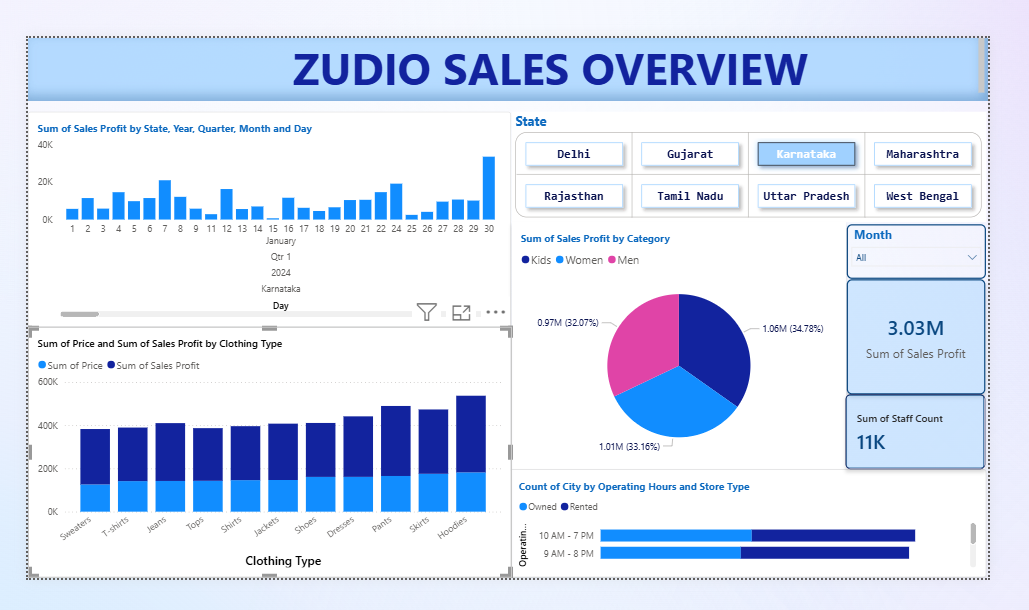

What the dashboard file says about the page in this screenshot:
{"tool":"powerbi","page":{"name":"Page 1","canvas":[1280,720],"ordinal":0},"visuals":[{"type":"textbox","box":[0,0,1280,84.3],"z":0},{"type":"card","fields":{"Values":["Sum(Zudio_sales_data.Sales Profit)"]},"box":[1091.7,321.7,185,153.3],"z":1000},{"type":"lineStackedColumnComboChart","fields":{"Y":["Sum(Zudio_sales_data.Sales Profit)"],"Category":["Zudio_sales_data.State","Zudio_sales_data.Order Date.Variation.Date Hierarchy.Year","Zudio_sales_data.Order Date.Variation.Date Hierarchy.Quarter","Zudio_sales_data.Order Date.Variation.Date Hierarchy.Month","Zudio_sales_data.Order Date.Variation.Date Hierarchy.Day"]},"box":[0,98.6,644.3,287.1],"z":2000},{"type":"slicer","fields":{"Values":["Zudio_sales_data.Month"]},"box":[1091.4,248.6,185.7,72.9],"z":3000},{"type":"advancedSlicerVisual","fields":{"Values":["Zudio_sales_data.State"]},"box":[644.3,98.6,632.9,147.1],"z":4000},{"type":"pieChart","fields":{"Category":["Zudio_sales_data.Category"],"Y":["Sum(Zudio_sales_data.Sales Profit)"]},"box":[644.3,245.7,445.7,330],"z":5000},{"type":"barChart","fields":{"Category":["Zudio_sales_data.Operating Hours","Zudio_sales_data.State"],"Y":["CountNonNull(Zudio_sales_data.City)"],"Series":["Zudio_sales_data.Store Type"]},"box":[641.4,575.7,635.7,144.3],"z":6000},{"type":"cardVisual","fields":{"Data":["Sum(Zudio_sales_data.Staff Count)"]},"box":[1090,475,186.7,100],"z":7000},{"type":"lineStackedColumnComboChart","fields":{"Category":["Zudio_sales_data.Clothing Type"],"Y":["Sum(Zudio_sales_data.Price)","Sum(Zudio_sales_data.Sales Profit)"]},"box":[0,385.7,644.3,334.3],"z":7001}]}

Visuals, with their boxes on the page's 1280x720 design canvas (x1, y1, x2, y2). These are canvas units, not pixel positions in the 1029x610 screenshot, which may show the page scaled, cropped or inside an application window:
textbox: box=[0, 0, 1280, 84]
card - Sum(Zudio_sales_data.Sales Profit): box=[1092, 322, 1277, 475]
lineStackedColumnComboChart - Sum(Zudio_sales_data.Sales Profit) x Zudio_sales_data.State: box=[0, 99, 644, 386]
slicer - Zudio_sales_data.Month: box=[1091, 249, 1277, 322]
advancedSlicerVisual - Zudio_sales_data.State: box=[644, 99, 1277, 246]
pieChart - Zudio_sales_data.Category x Sum(Zudio_sales_data.Sales Profit): box=[644, 246, 1090, 576]
barChart - Zudio_sales_data.Operating Hours x Zudio_sales_data.State: box=[641, 576, 1277, 720]
cardVisual - Sum(Zudio_sales_data.Staff Count): box=[1090, 475, 1277, 575]
lineStackedColumnComboChart - Zudio_sales_data.Clothing Type x Sum(Zudio_sales_data.Price): box=[0, 386, 644, 720]
